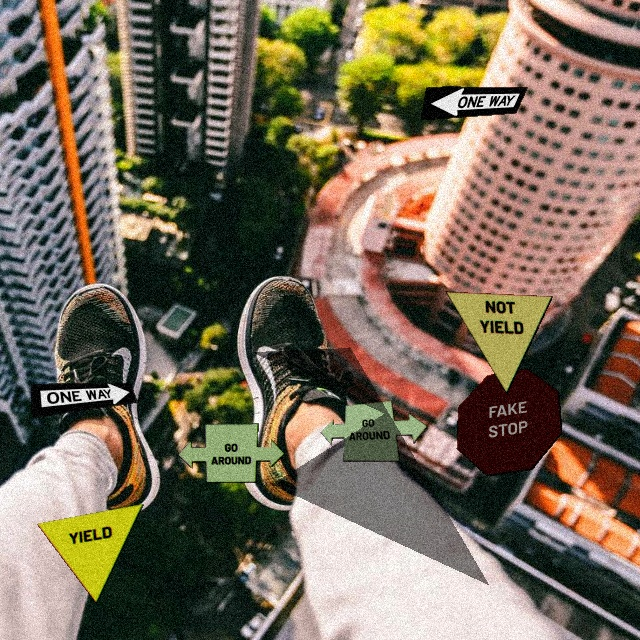FAKE_STOP: (456, 368, 562, 476)
GO_AROUND: (320, 400, 428, 462), (177, 423, 285, 483)
NOT_YIELD: (445, 291, 553, 394)
ONE_WAY_ left: (420, 86, 528, 120)
ONE_WAY_ right: (30, 382, 138, 418)
YIELD: (36, 503, 144, 604)
